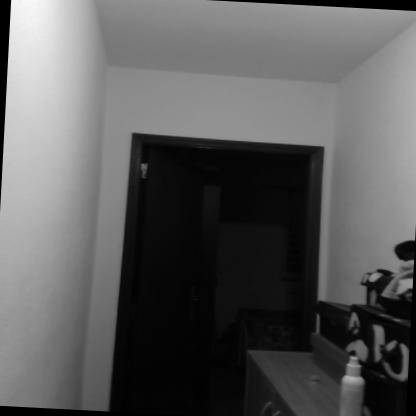open: (87, 105, 352, 416)
